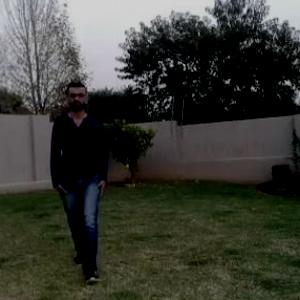follow: (54, 84, 110, 260)
